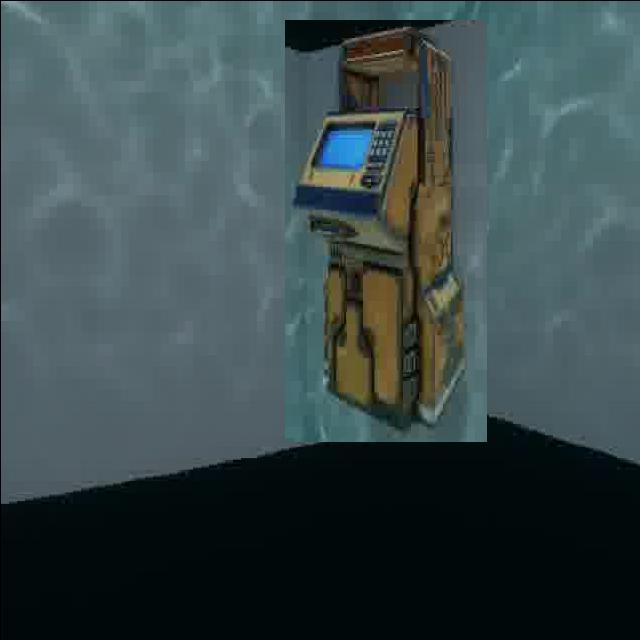Control Panel: (284, 19, 486, 441)
